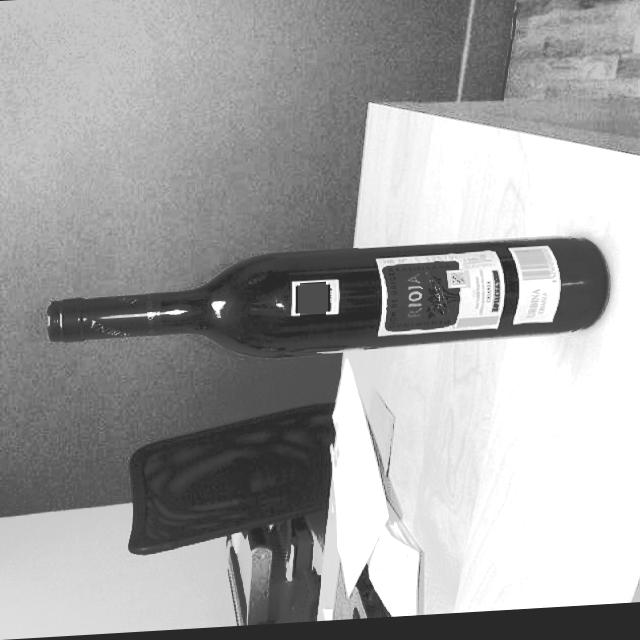qr_code: (298, 286, 328, 318)
